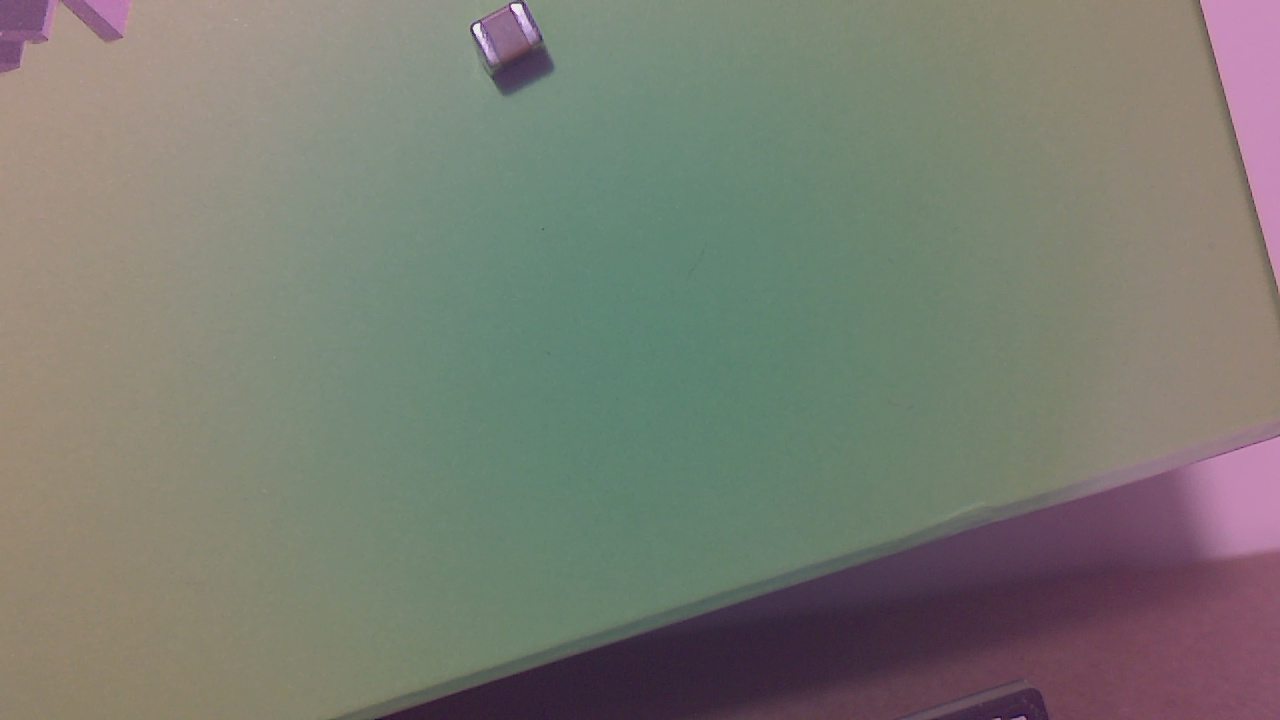Condensator: (479, 7, 546, 76)
